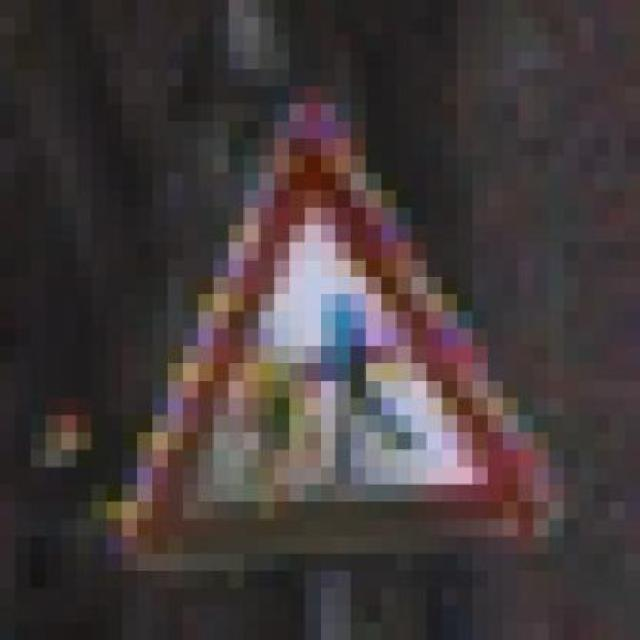Beware of children: (107, 86, 579, 588)
